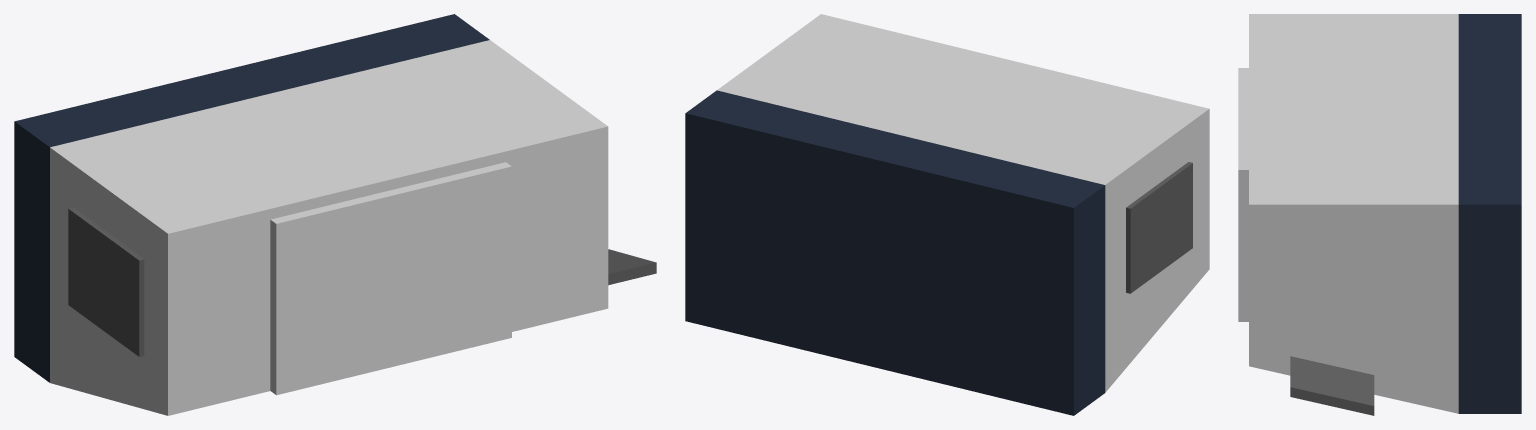
Rendered from cnc_vertical_machining_center_3_state_2.dae.
3 views of the same model, side by side, from view 1: azimuth 30°, elevation 25°; view 2: azimuth 150°, elevation 25°; view 3: azimuth 270°, elevation 25° (orthographic). The views are drawn at different scales.
Parts seen in each view (by area): view 1: coords_ME_ID49_MA_material_8, coords_ME_ID19_MA_jean_blue, coords_ME_ID27_MA_material_5, coords_ME_ID55_MA_material_5; view 2: coords_ME_ID19_MA_jean_blue, coords_ME_ID49_MA_material_8, coords_ME_ID27_MA_material_5; view 3: coords_ME_ID49_MA_material_8, coords_ME_ID19_MA_jean_blue, coords_ME_ID55_MA_material_5.
Part boxes in pixels (x1,y1,x2,y2): coords_ME_ID49_MA_material_8: [50, 40, 608, 415]; coords_ME_ID19_MA_jean_blue: [14, 14, 489, 382]; coords_ME_ID27_MA_material_5: [68, 207, 144, 356]; coords_ME_ID55_MA_material_5: [608, 249, 656, 285]; coords_ME_ID19_MA_jean_blue: [685, 90, 1105, 415]; coords_ME_ID49_MA_material_8: [717, 14, 1209, 392]; coords_ME_ID27_MA_material_5: [1126, 162, 1192, 293]; coords_ME_ID49_MA_material_8: [1238, 14, 1458, 413]; coords_ME_ID19_MA_jean_blue: [1458, 14, 1521, 413]; coords_ME_ID55_MA_material_5: [1290, 356, 1374, 415].
Size of the model in its own units: 43.74 by 19.06 by 23.39.
